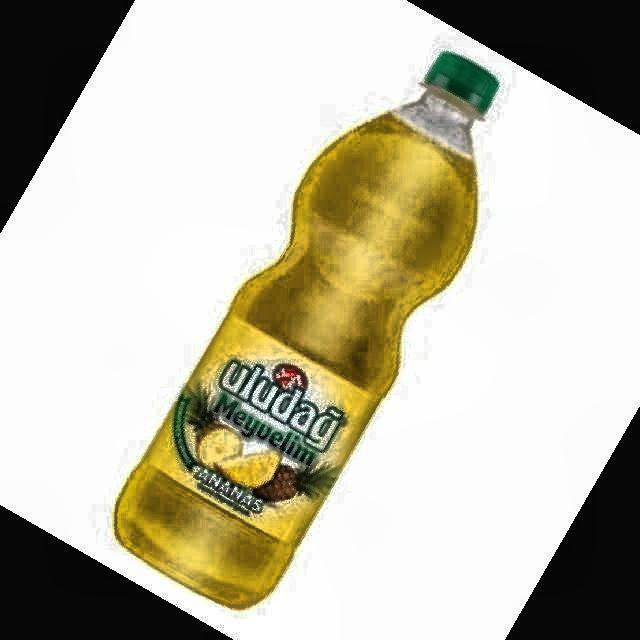plastic: (114, 52, 498, 608)
